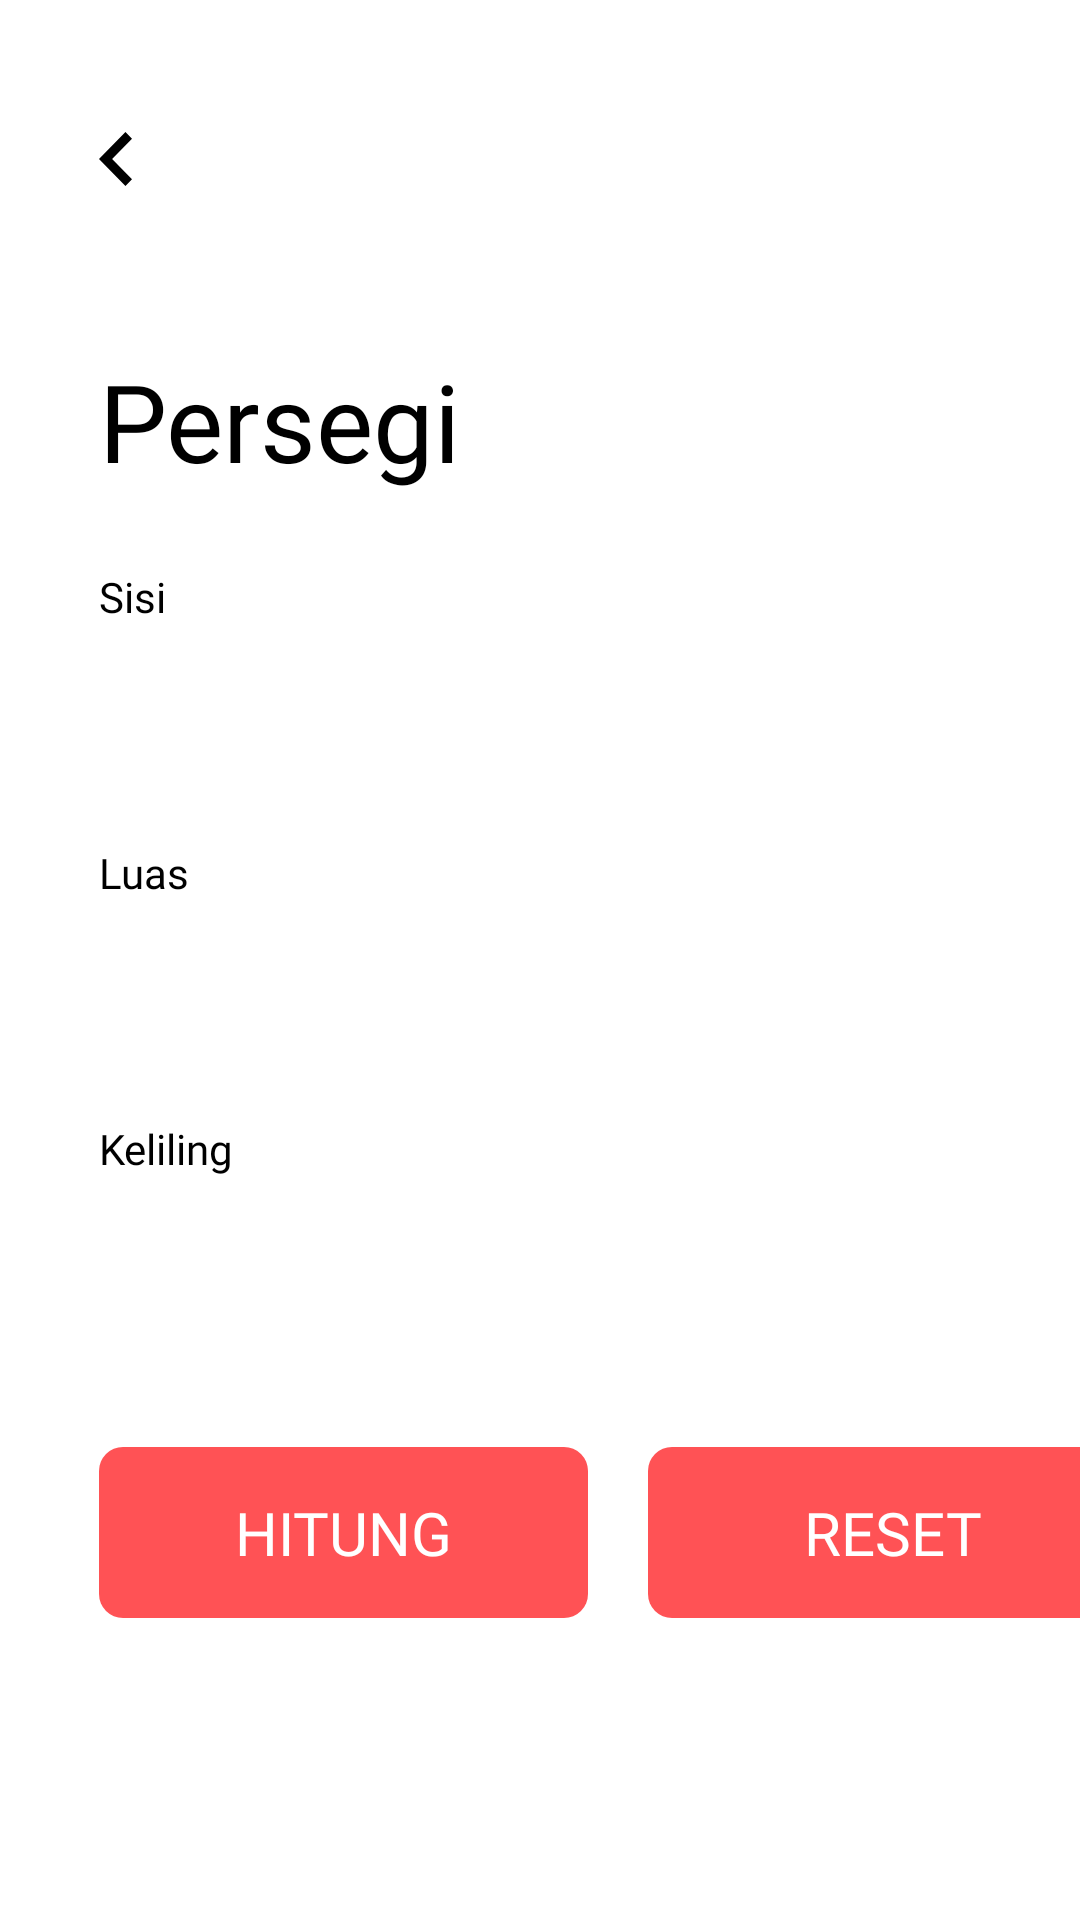

Where icons sit on this 1080px×1920px app screen, as (x1, y1, x2, y2):
btnback: (99, 132, 132, 186)
